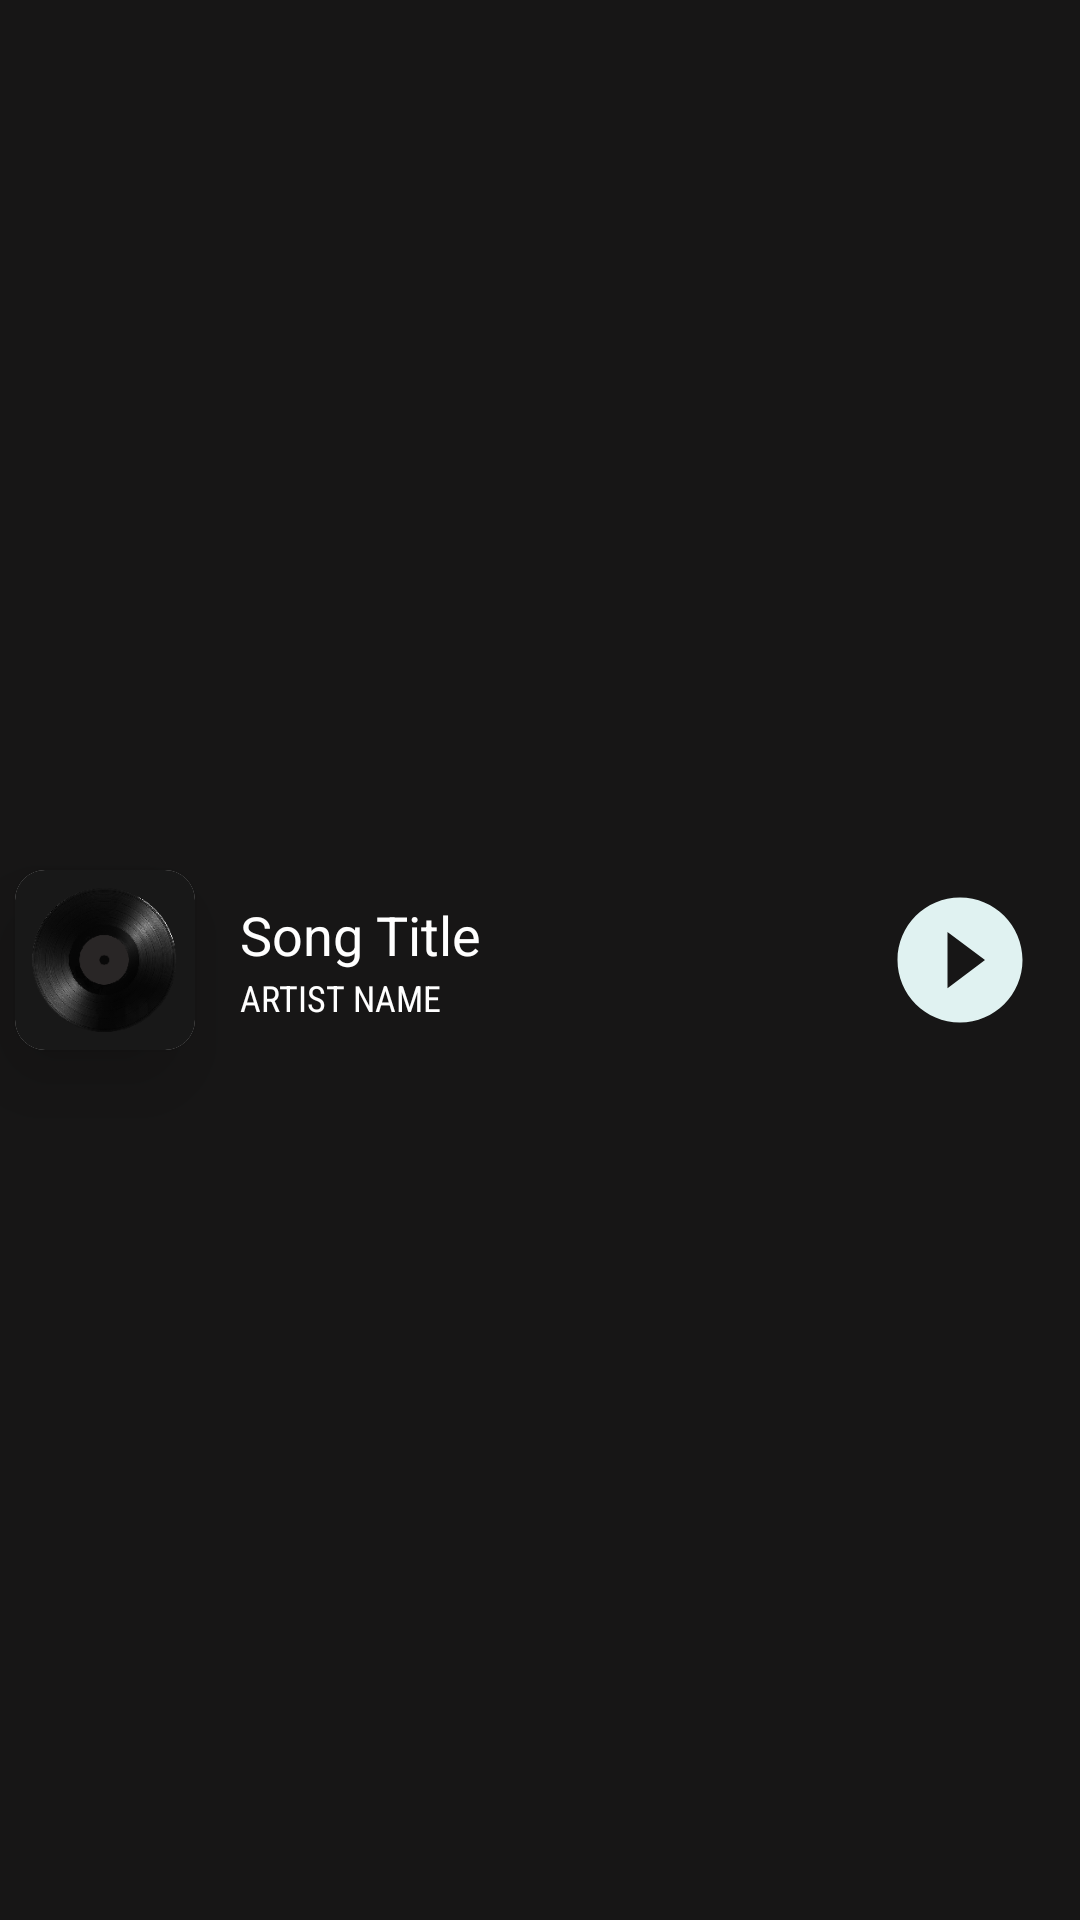

Named icons in this screenshot (1080px×1920px) and their centers, (x,y):
play: (960,960)
